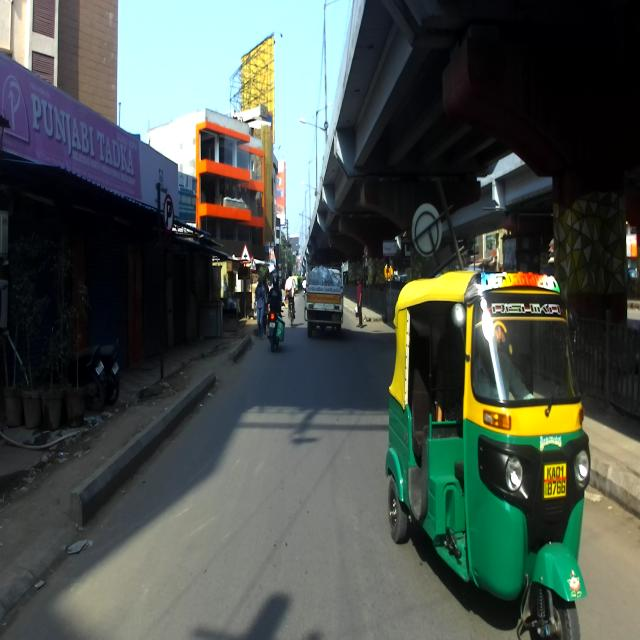auto ahead at: (393, 275, 589, 640)
sign board ahead at: (158, 190, 176, 236)
truck ahead at: (304, 258, 348, 332)
